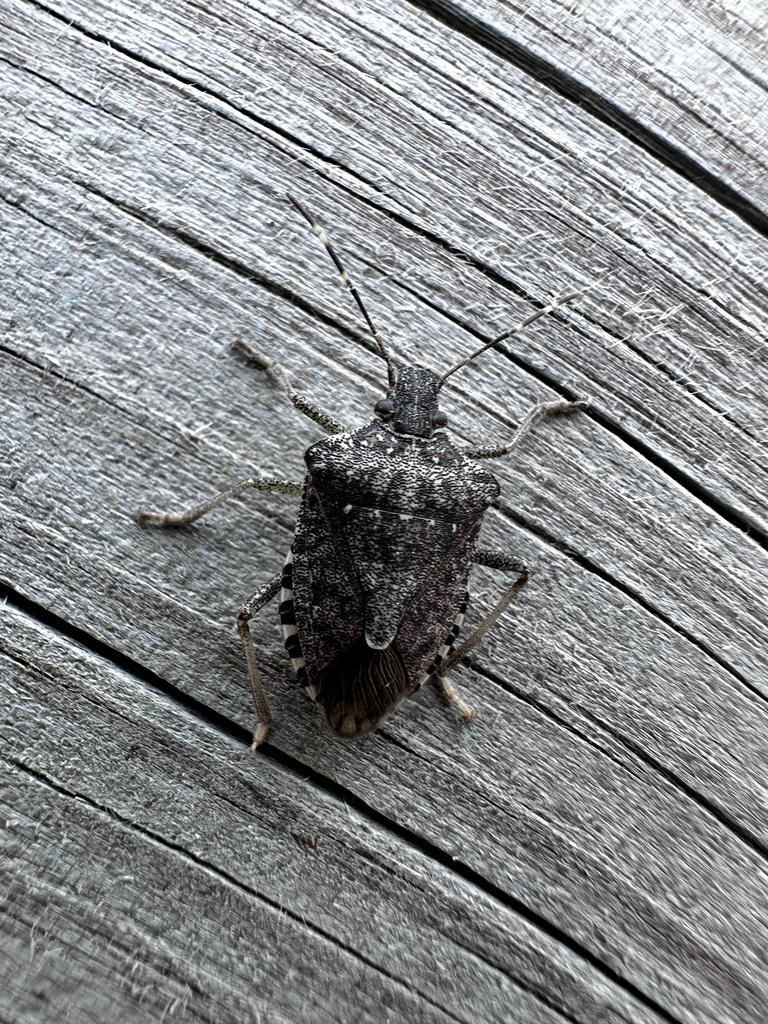stink_bugs: (11, 147, 713, 885)
